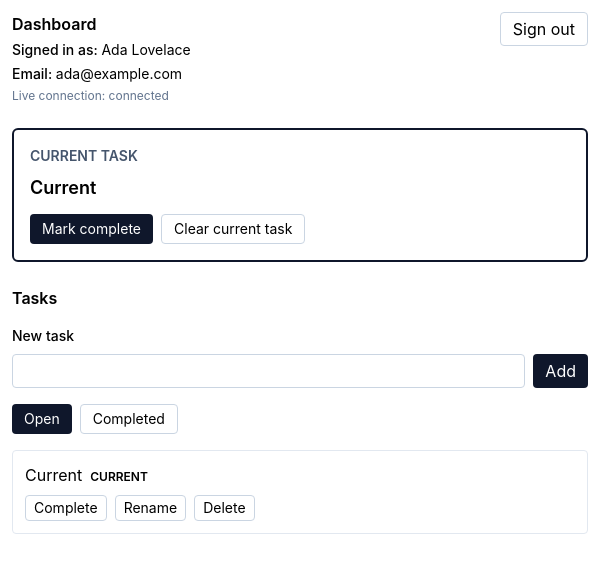
Scenario: stale mutation errors (FE-3) › a successful "Mark complete" clears an earlier failed "Clear current task"
Expected: the 1st text "Current" is shown, [30,177,96,198]
Click the button "Clear current task" at (233, 229), box [161,214,305,244]
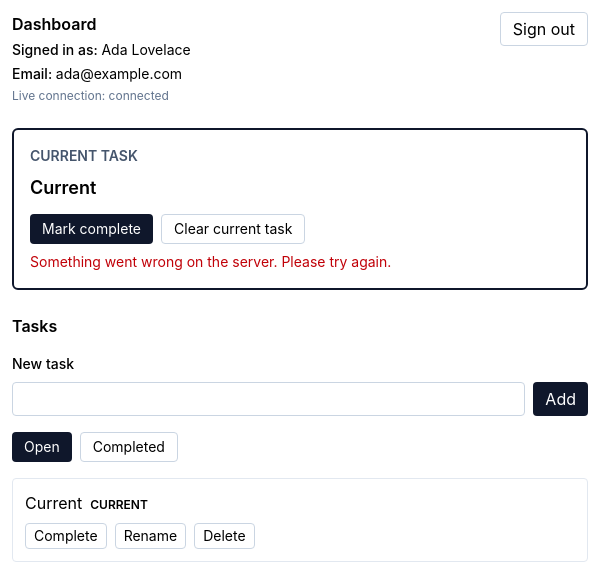
Result: the text "Something went wrong on the server. Please try again." is shown at [30,253,391,270]
Click the button "Mark complete" at (92, 229), box [30,214,153,244]
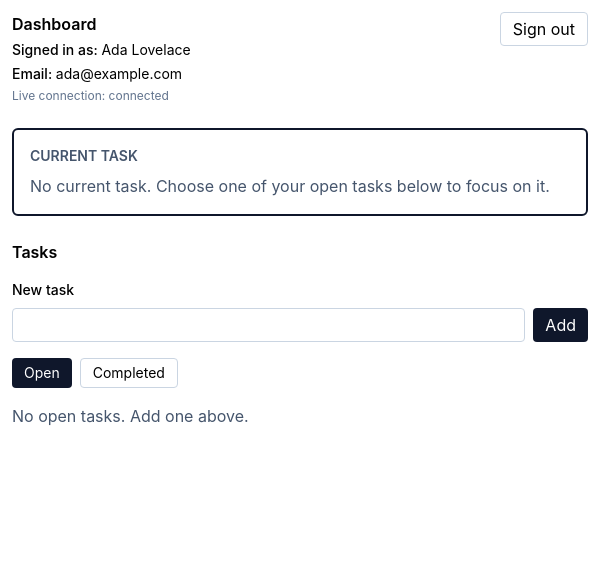
Result: the text "No current task" is shown at [30,176,550,196]
Result: the text "Something went wrong on the server. Please try again." is gone
Result: the message "Something went wrong on the server. Please try again." is gone
